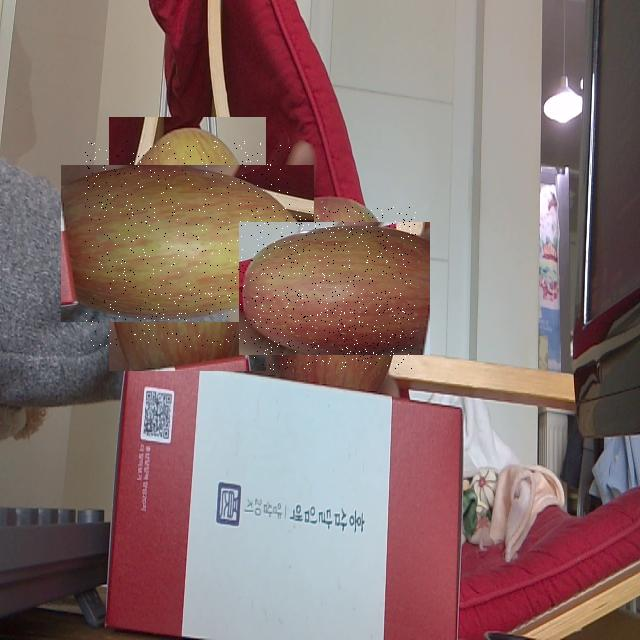apple: (85, 141, 290, 347), (254, 207, 416, 370)
